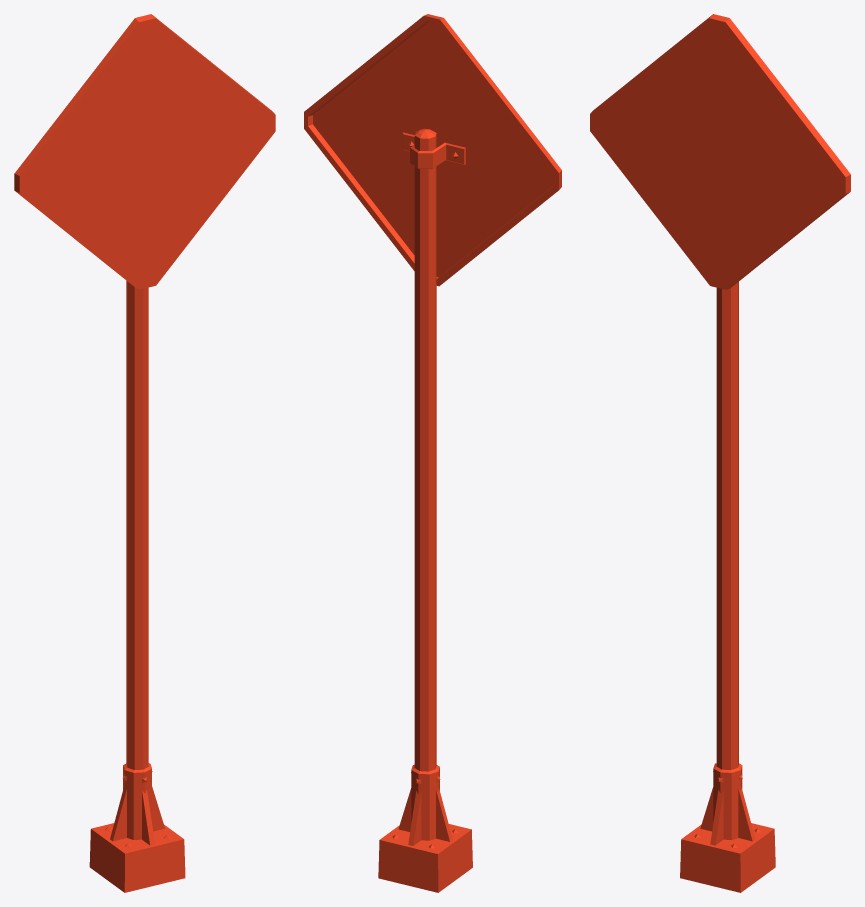
The model's file is SM_Sign_Sideroad_C_City.fbx.
3 renders of one model, left to right at view 1: azimuth 30°, elevation 25°; view 2: azimuth 150°, elevation 25°; view 3: azimuth 330°, elevation 25°, orthographic.
Parts seen in each view (by area): view 1: SM_Sign_Sideroad_C_City; view 2: SM_Sign_Sideroad_C_City; view 3: SM_Sign_Sideroad_C_City.
Part boxes in pixels (x1,y1,x2,y2): SM_Sign_Sideroad_C_City: [14, 14, 275, 892]; SM_Sign_Sideroad_C_City: [304, 14, 561, 892]; SM_Sign_Sideroad_C_City: [590, 14, 850, 892].
Bounding box in the file's own units: 0.7813 × 2.49 × 0.1839.
